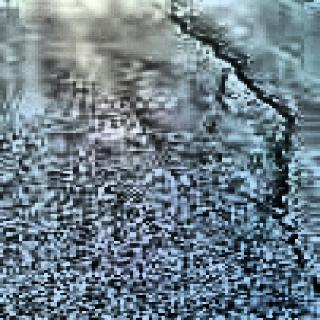pothole: (168, 1, 320, 294)
